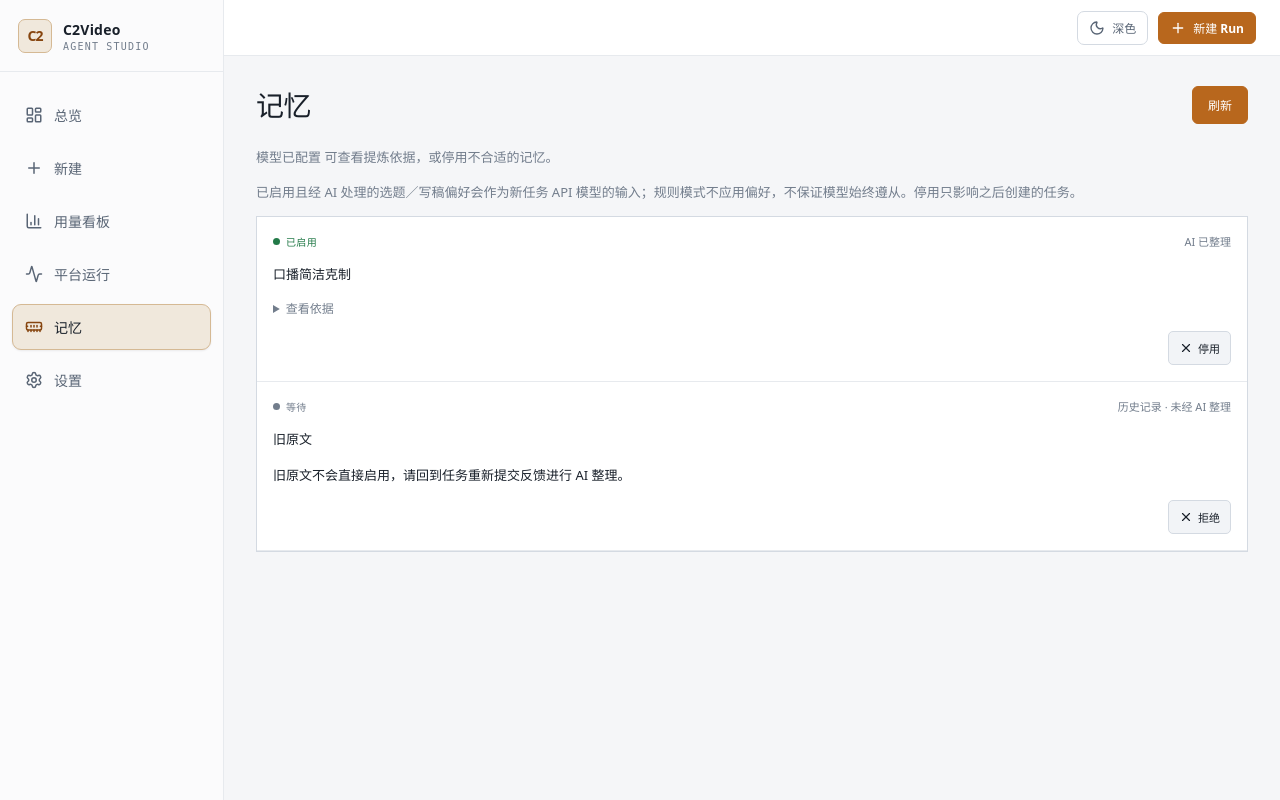
Test: memory page shows provenance, disables memories, and does not approve raw legacy entries
Expected: the text "AI 已整理" is shown, [1184,233,1231,249]
Expected: the text "历史记录 · 未经 AI 整理" is shown, [1118,398,1231,414]
Click the button "停用" at (1200, 348), box [1168,331,1231,365]
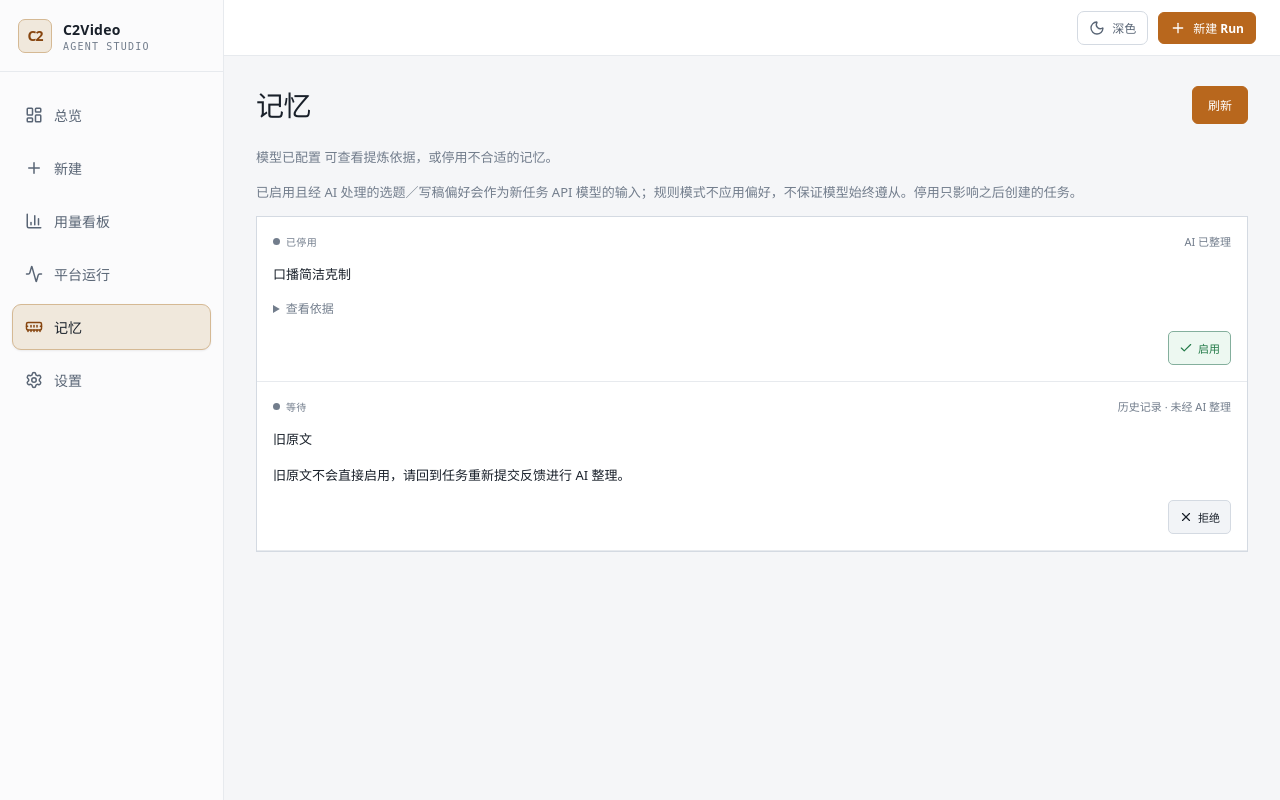
Expected: the text "已停用" is shown, [273,234,317,249]
